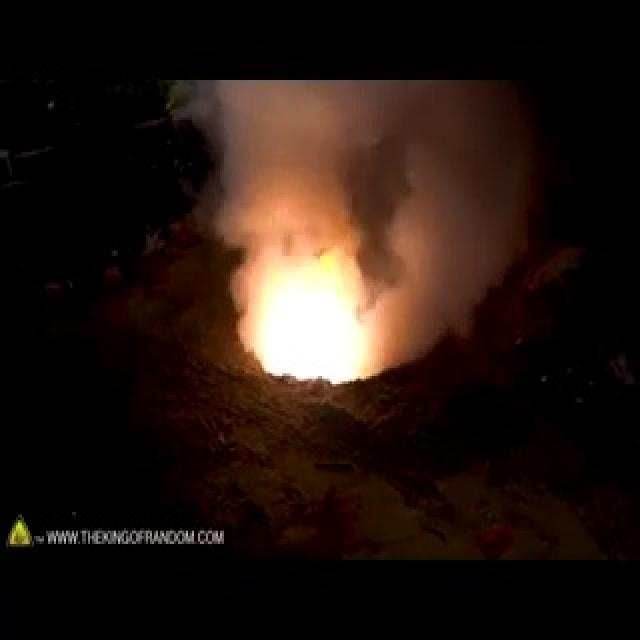fire: (228, 190, 380, 370)
